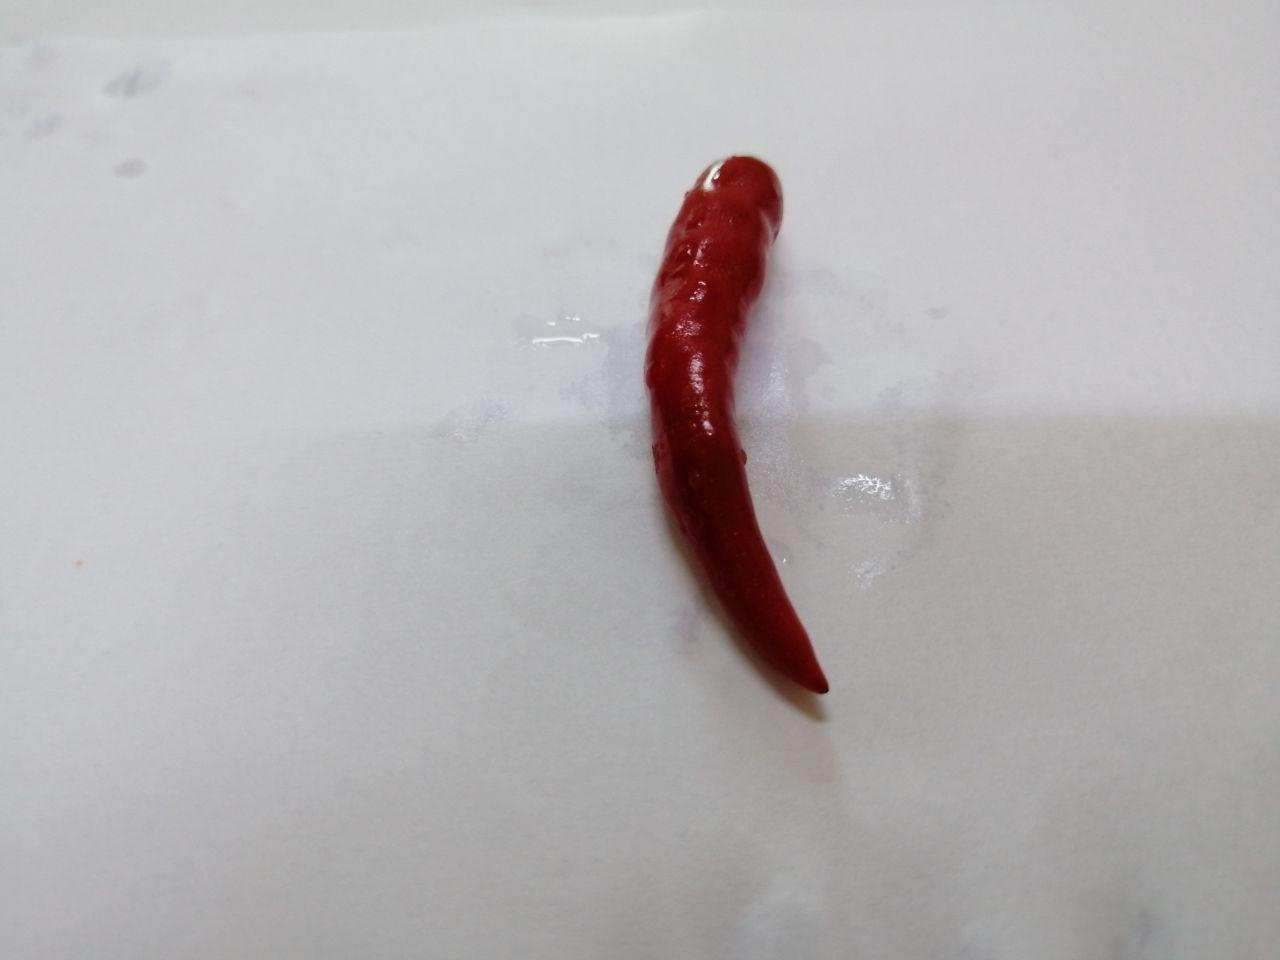lada merah: (634, 142, 888, 725)
